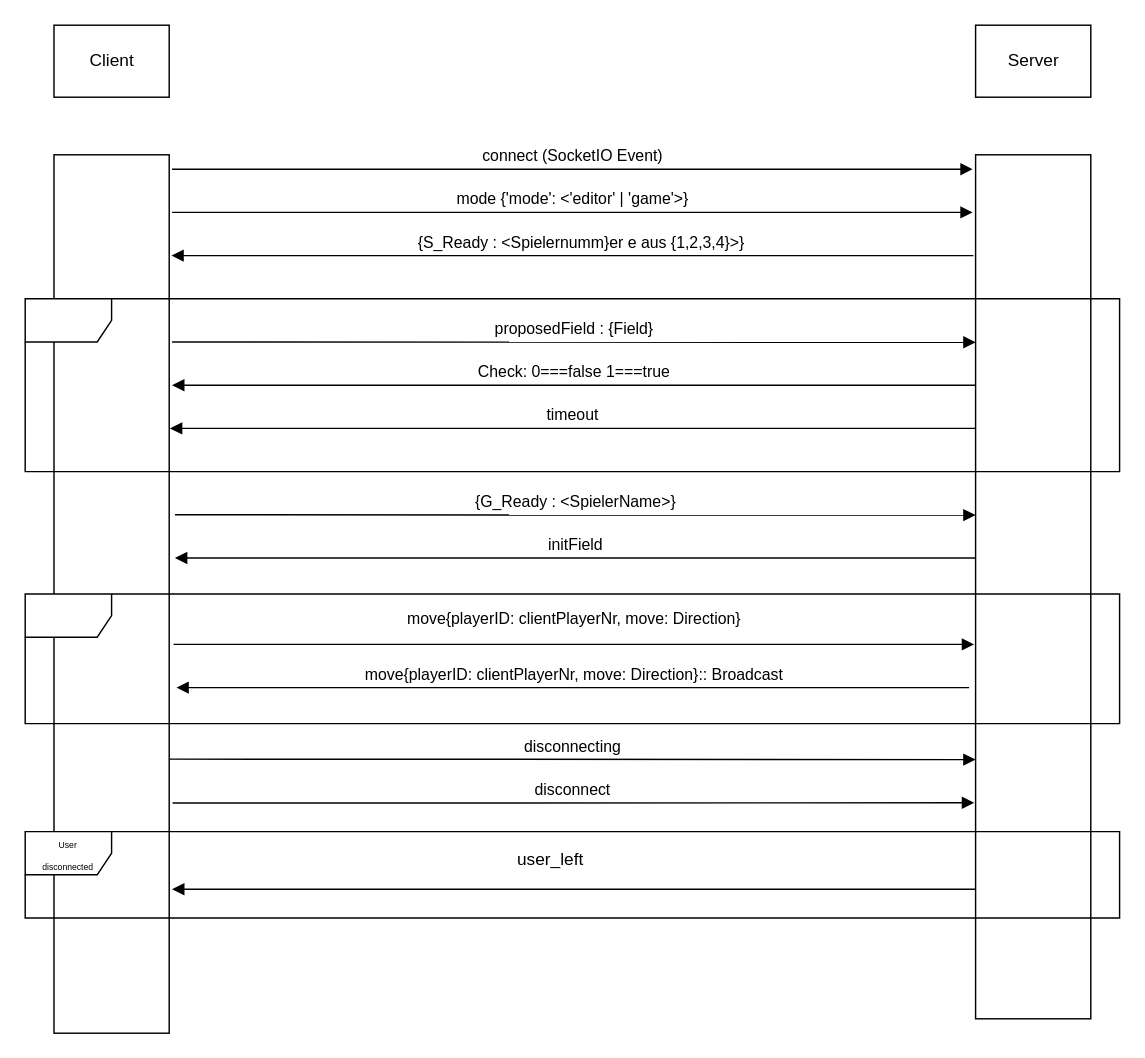
Some shapes in this 1145 by 1058 pixel diagram are drawn without their labels. The centre of each missing label's shape, as x and y in pixels:
Editor: the point at 572,384
Game: the point at 572,658
